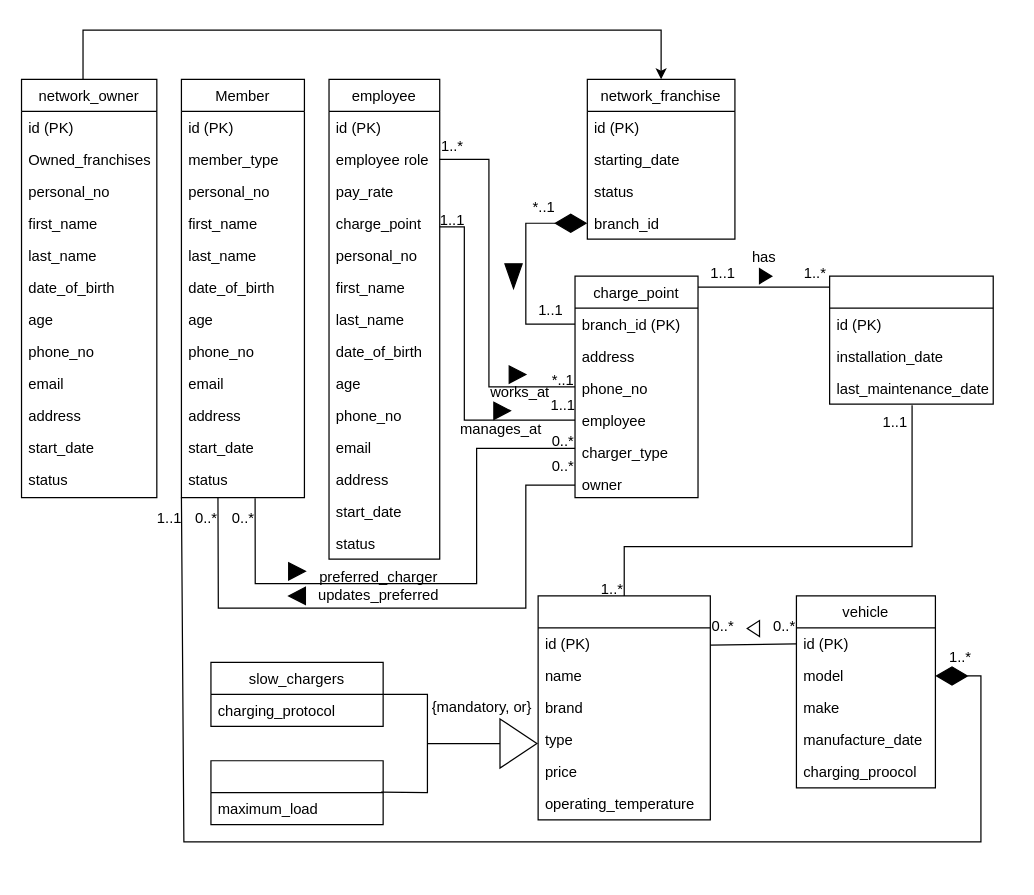
Image size: 1034x895. Some labels were removed from this diagram. Each missing label, with the box of its shape:
charger_machines: (828, 275, 993, 404)
ev_chargers: (537, 595, 710, 820)
fast_chargers: (210, 760, 383, 825)
